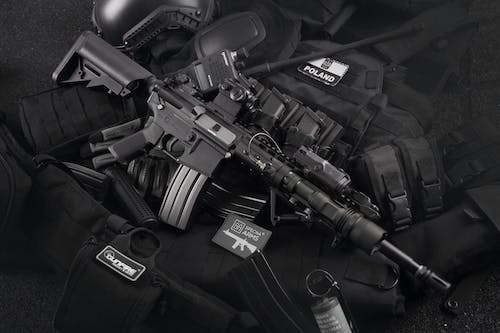gun: (50, 28, 453, 297)
